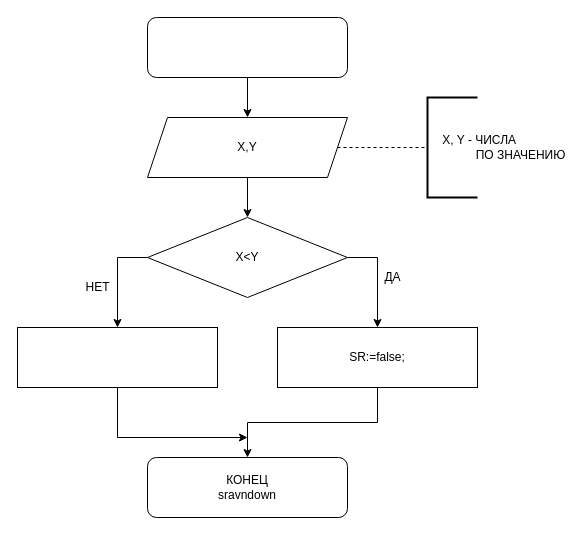
Some shapes in this 583 by 535 pixel diagram are drawn without their labels. Each missing label, with the centre of its shape:
SR:=true;: (x=117, y=357)
sravndown НАЧАЛО: (x=247, y=47)
